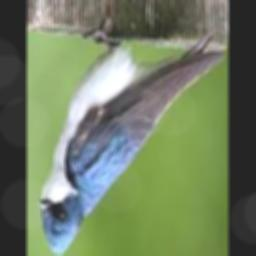Swallow: (39, 26, 225, 256)
